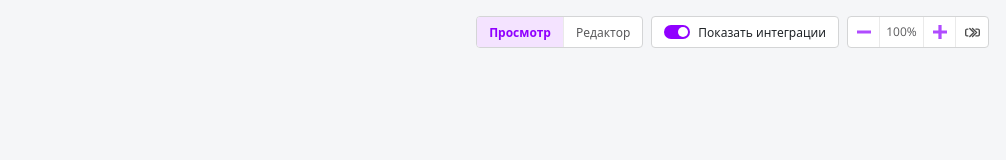
Toolbar › возврат в «Просмотр» снова убирает кнопки редактора
Step 1. Click the button "Редактор" → (603, 32), box [564,17,642,47]
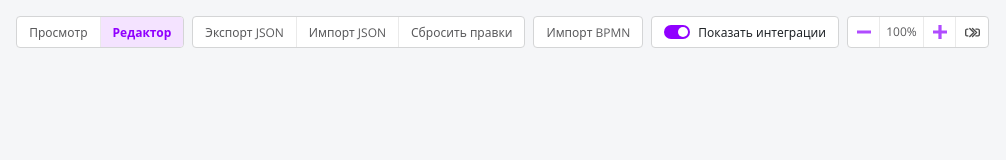
Expected: the button "Экспорт JSON" is shown, [193,17,297,47]
Step 2. Click the button "Просмотр" → (59, 32), box [17,17,101,47]
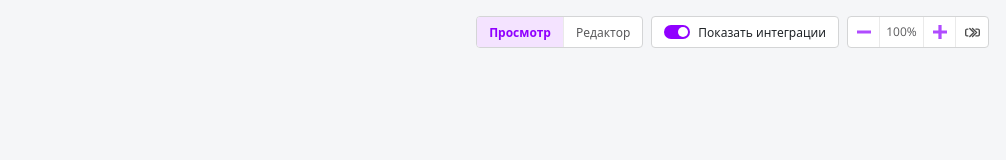
Expected: the button "Экспорт JSON" is gone
